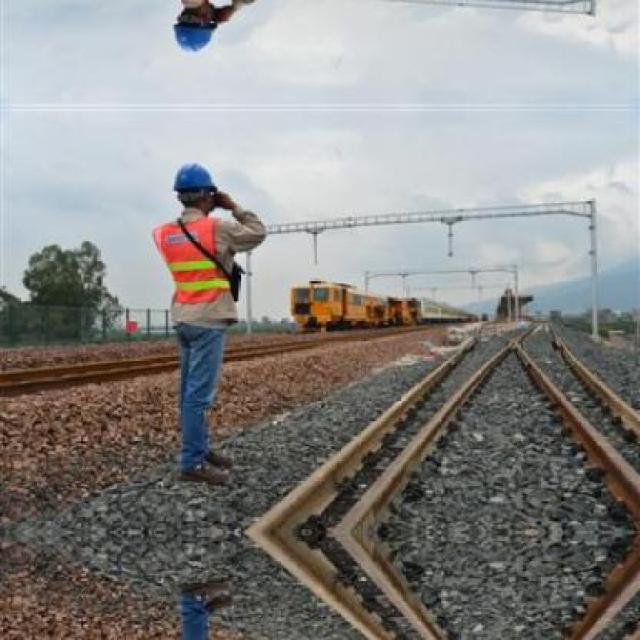helmet: (169, 0, 223, 57), (169, 157, 222, 215)
